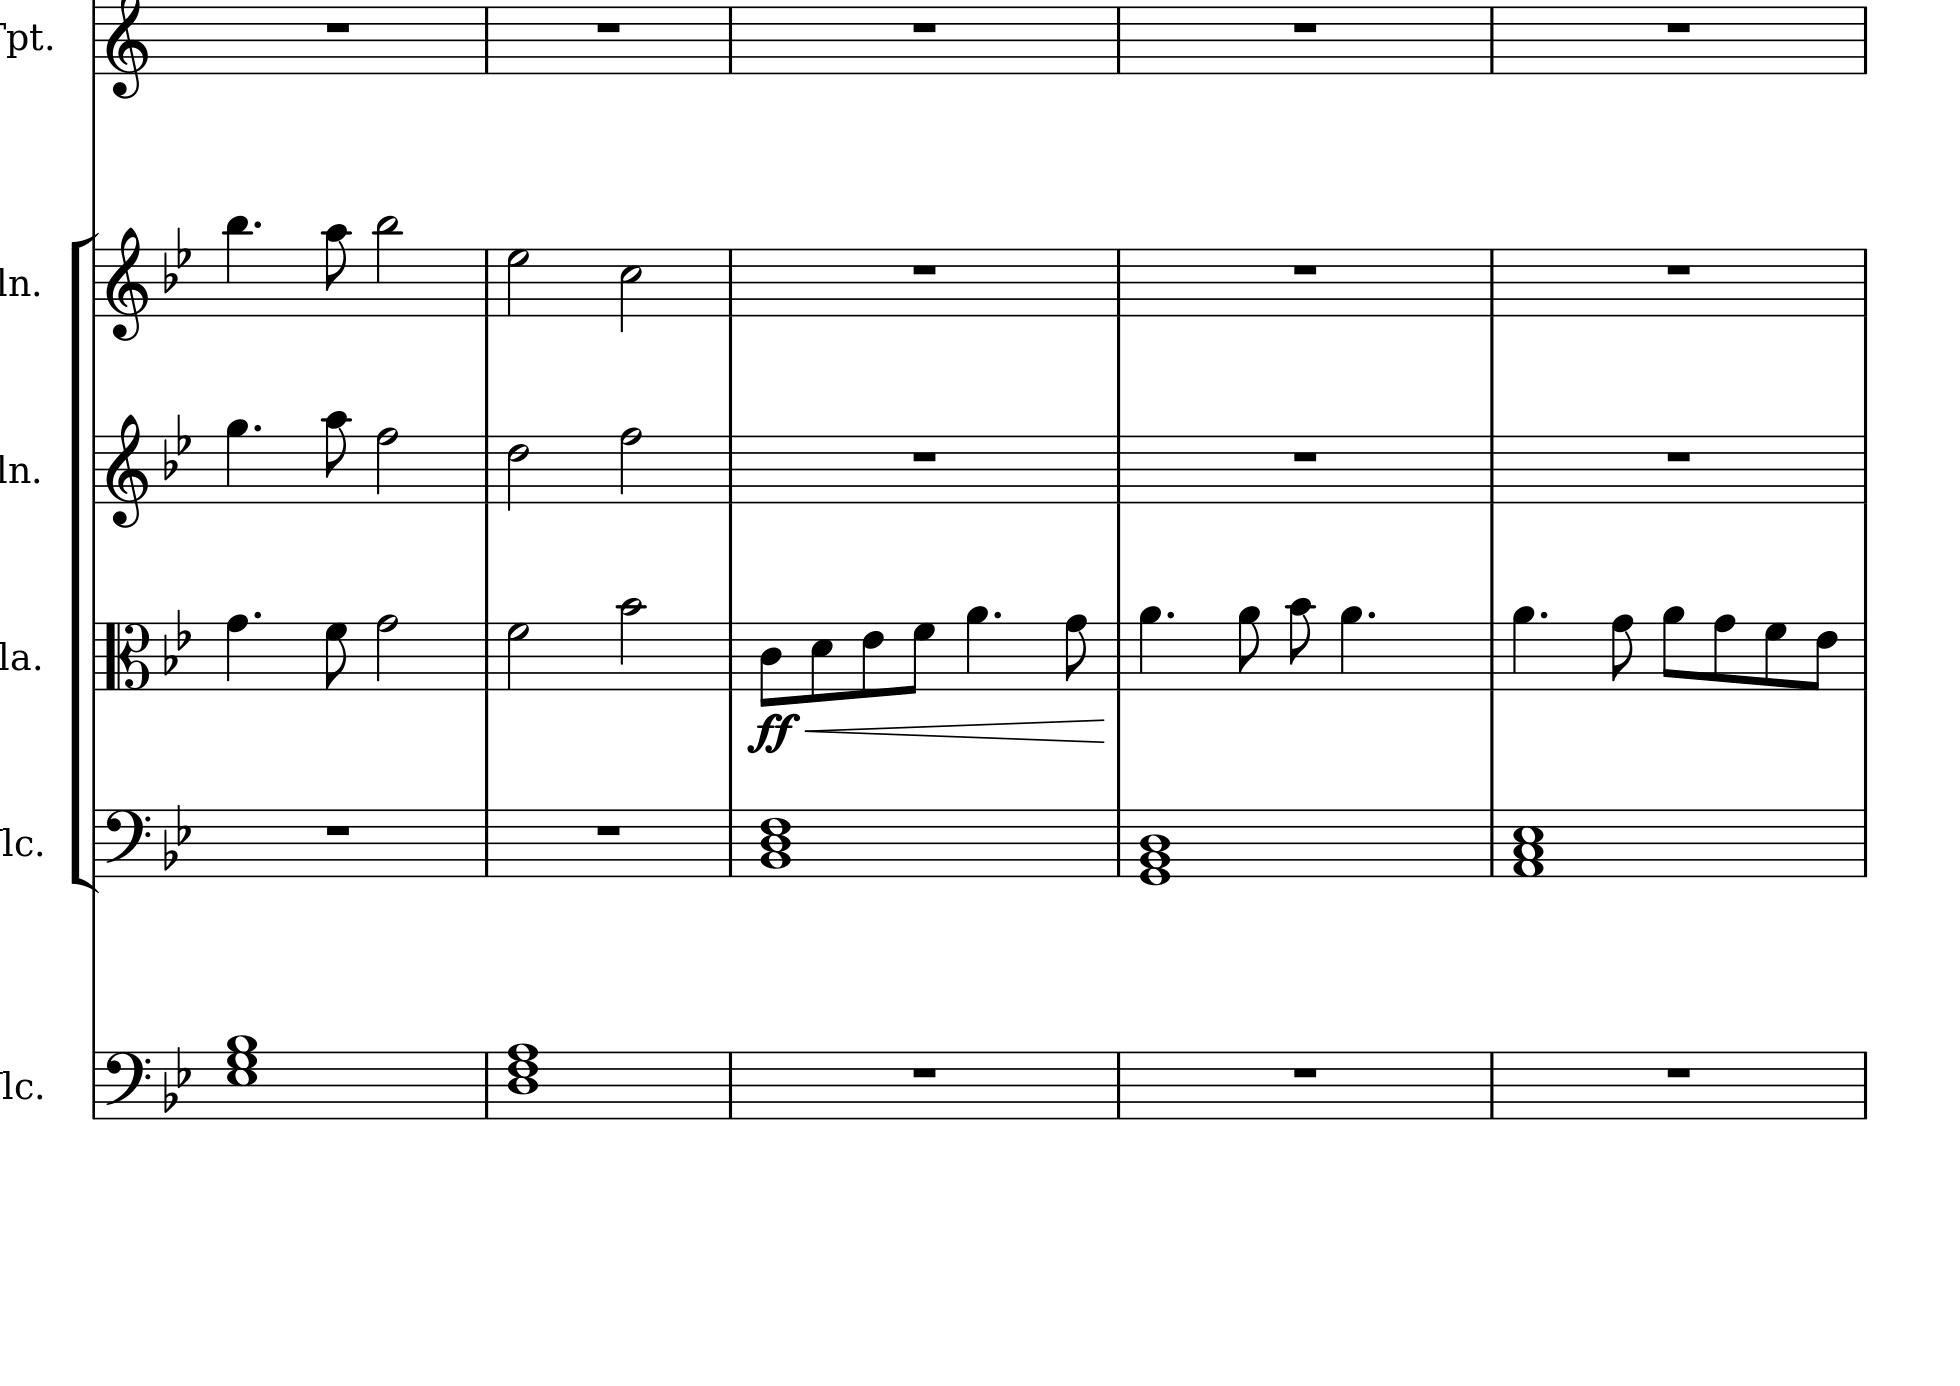1_th: (226, 1030, 259, 1117), (1138, 807, 1173, 886), (505, 1041, 540, 1117), (759, 805, 793, 877), (1512, 807, 1545, 877)
2_10: (616, 595, 646, 693)
2_11: (373, 214, 400, 319)
2_5: (618, 247, 643, 334)
2_6: (505, 433, 531, 514)
2_7: (505, 621, 531, 693), (505, 247, 531, 318)
2_8: (616, 424, 645, 505), (373, 424, 400, 505), (373, 612, 400, 693)
4_11: (223, 214, 250, 319)
4_8: (223, 612, 250, 691)
4_9: (223, 417, 250, 505), (1338, 604, 1365, 693), (964, 604, 990, 691), (1138, 604, 1164, 691), (1512, 604, 1536, 691)
8_10: (322, 409, 352, 505), (1287, 595, 1317, 691), (322, 222, 351, 319)
8_4: (757, 619, 783, 708)
8_5: (808, 619, 834, 705)
8_6: (1807, 619, 1840, 691), (859, 619, 885, 700)
8_7: (903, 619, 936, 696), (1762, 619, 1789, 693), (324, 621, 349, 691)
8_8: (1611, 612, 1636, 693), (1713, 612, 1738, 693), (1063, 612, 1089, 691)
8_9: (1236, 604, 1263, 691), (1662, 604, 1687, 693)
B_F: (162, 225, 193, 294), (162, 411, 192, 481), (162, 1045, 192, 1114), (162, 607, 192, 675), (162, 802, 190, 871)
Bracke: (66, 220, 109, 889)
Cclef: (102, 621, 151, 691)
Crescendo_hairpin: (808, 715, 1108, 747)
Fclef: (102, 805, 151, 879), (103, 1048, 151, 1120)
Gclef: (103, 225, 148, 343), (103, 411, 148, 529), (105, 1, 150, 100)
Rests1: (1290, 18, 1321, 37), (1663, 16, 1695, 36), (1663, 447, 1695, 466), (909, 1062, 940, 1081), (1290, 1062, 1321, 1081), (592, 18, 624, 36), (909, 18, 940, 36), (1663, 259, 1695, 277), (909, 447, 940, 465), (1290, 448, 1321, 466), (592, 820, 624, 838), (1663, 1063, 1695, 1081), (322, 820, 352, 838), (322, 18, 354, 34), (909, 261, 940, 277), (1290, 261, 1321, 277)
Single_barline: (1482, 808, 1503, 876), (477, 435, 496, 502), (720, 435, 739, 502), (1482, 435, 1501, 502), (1483, 622, 1503, 690), (85, 808, 103, 879), (478, 247, 496, 316), (721, 247, 739, 316), (478, 621, 496, 690), (721, 6, 739, 73), (1857, 6, 1875, 73), (1110, 435, 1128, 502), (721, 621, 739, 688), (1110, 622, 1128, 690), (721, 808, 739, 876), (1110, 7, 1128, 73), (1483, 7, 1501, 73), (1110, 249, 1128, 315), (1110, 808, 1128, 874), (85, 1051, 103, 1117), (721, 1051, 739, 1117), (1110, 1051, 1128, 1117), (1857, 247, 1873, 316), (478, 808, 495, 877), (1483, 249, 1500, 315), (85, 622, 102, 688), (478, 1051, 495, 1117), (1857, 1051, 1873, 1117), (1483, 1051, 1500, 1117), (1857, 621, 1872, 691), (88, 4, 103, 73), (1857, 808, 1872, 877), (88, 249, 103, 316), (1857, 435, 1872, 502), (478, 7, 493, 73), (87, 436, 102, 502)
dot: (1164, 607, 1177, 622), (1537, 607, 1551, 622), (1365, 607, 1378, 621), (250, 219, 264, 231), (991, 607, 1003, 621), (250, 421, 262, 433), (250, 609, 262, 621)
ff: (745, 712, 801, 754)
